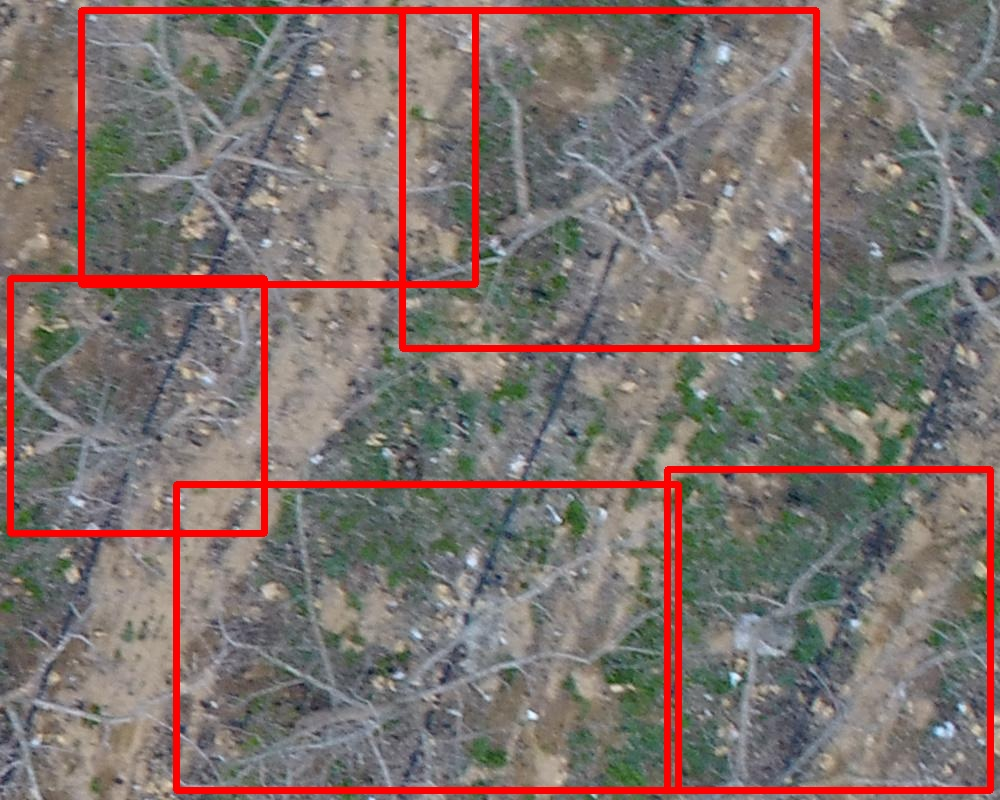apple: (176, 484, 678, 790), (402, 10, 816, 348), (81, 10, 475, 284), (667, 469, 990, 790), (10, 278, 264, 533)
